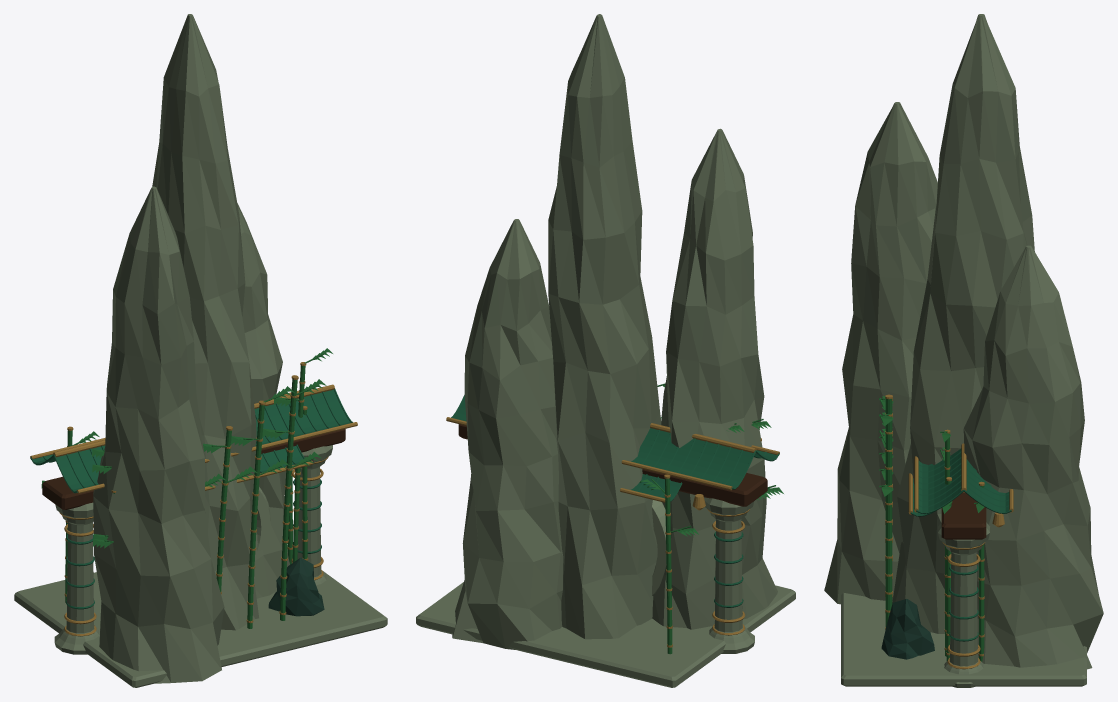
The model's file is jade_veil.glb.
3 views of the same model, side by side, from view 1: azimuth 30°, elevation 25°; view 2: azimuth 150°, elevation 25°; view 3: azimuth 270°, elevation 25° (orthographic). The views are drawn at different scales.
Visible parts, largest first — view 1: Rock_stone, Landmark_stone, Gate_stone, Gate_roof, Rock_leaf, Landmark_leaf, Gate_trim, Landmark_dark, Gate_wood, Rock_trim, Landmark_stone_light, Landmark_trim (+1 smaller); view 2: Rock_stone, Landmark_stone, Gate_roof, Gate_stone, Gate_trim, Gate_wood, Landmark_leaf, Landmark_stone_light, Landmark_roof; view 3: Rock_stone, Landmark_stone, Gate_stone, Gate_roof, Landmark_dark, Rock_leaf, Gate_wood, Landmark_leaf, Gate_trim, Landmark_trim.
Part boxes in pixels (x1,y1,x2,y2): Rock_stone: [93, 14, 289, 683]; Landmark_stone: [14, 545, 387, 687]; Gate_stone: [54, 445, 332, 654]; Gate_roof: [30, 389, 352, 609]; Rock_leaf: [203, 379, 326, 628]; Landmark_leaf: [41, 348, 332, 602]; Gate_trim: [30, 384, 357, 636]; Landmark_dark: [268, 557, 324, 616]; Gate_wood: [42, 429, 345, 509]; Rock_trim: [216, 375, 298, 623]; Landmark_stone_light: [256, 487, 270, 552]; Landmark_trim: [64, 362, 312, 596]; Rock_stone: [452, 14, 777, 649]; Landmark_stone: [416, 582, 795, 687]; Gate_roof: [451, 395, 779, 607]; Gate_stone: [704, 497, 754, 653]; Gate_trim: [446, 417, 779, 635]; Gate_wood: [458, 424, 767, 506]; Landmark_leaf: [639, 419, 783, 654]; Landmark_stone_light: [652, 500, 666, 595]; Landmark_roof: [631, 474, 682, 501]; Rock_stone: [824, 14, 1103, 669]; Landmark_stone: [841, 593, 1086, 686]; Gate_stone: [938, 522, 989, 687]; Gate_roof: [916, 448, 1011, 641]; Landmark_dark: [881, 599, 934, 659]; Rock_leaf: [879, 396, 893, 627]; Gate_wood: [941, 492, 986, 539]; Landmark_leaf: [940, 431, 984, 661]; Gate_trim: [914, 443, 1013, 669]; Landmark_trim: [908, 429, 984, 656].
Size of the model in its own units: 12 by 24.6 by 10.
